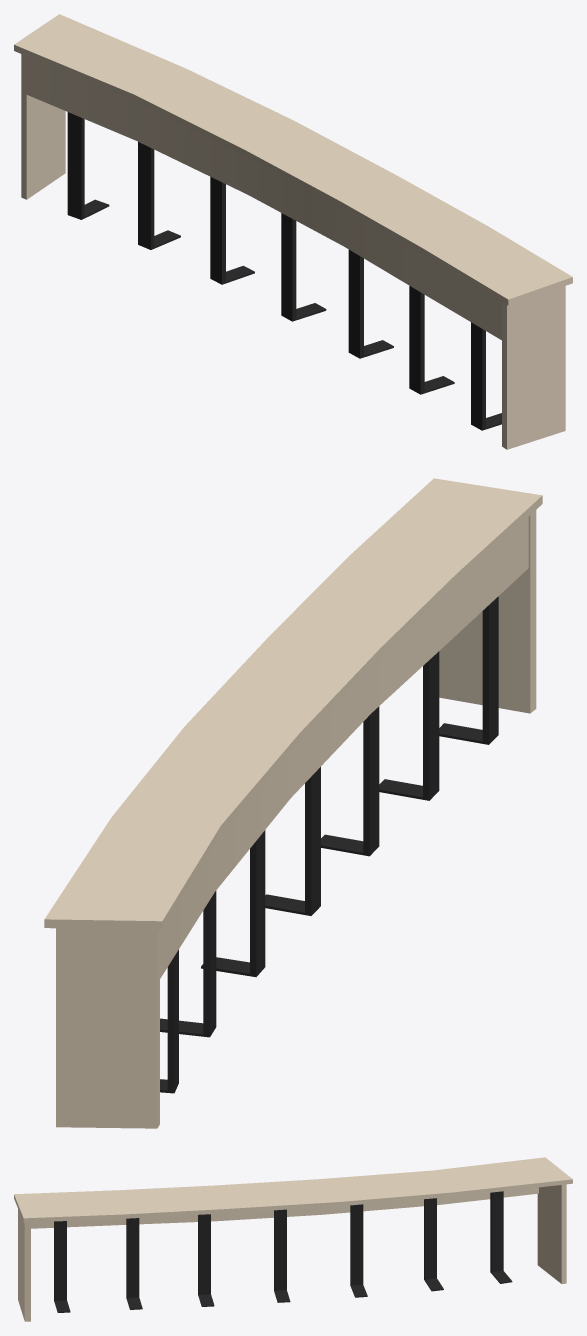
Rendered from AmphiPetitBanc7.fbx.
3 renders of one model, top to bottom at view 1: azimuth 30°, elevation 25°; view 2: azimuth 150°, elevation 25°; view 3: azimuth 270°, elevation 25°, orthographic. The views are drawn at different scales.
Parts seen in each view (by area): view 1: polySurface19, polySurface20, polySurface21, polySurface24, polySurface23, polySurface25, polySurface22, polySurface26; view 2: polySurface19, polySurface25, polySurface24, polySurface26, polySurface23, polySurface22, polySurface21, polySurface20; view 3: polySurface19, polySurface22, polySurface20, polySurface25, polySurface21, polySurface23, polySurface24, polySurface26.
Boxes of the visible parts, x1,y1,x2,y2 form: polySurface19: (14,14,572,449); polySurface20: (67,112,109,219); polySurface21: (138,142,180,249); polySurface24: (348,249,393,358); polySurface23: (281,213,326,321); polySurface25: (409,286,454,394); polySurface22: (210,177,254,284); polySurface26: (471,322,501,430); polySurface19: (44,478,542,1128); polySurface25: (379,651,439,800); polySurface24: (321,706,379,856); polySurface26: (439,596,498,744); polySurface23: (265,767,320,915); polySurface22: (201,830,265,977); polySurface21: (160,891,216,1037); polySurface20: (160,949,178,1093); polySurface19: (14,1157,572,1321); polySurface22: (350,1204,367,1297); polySurface20: (490,1191,512,1283); polySurface25: (126,1218,142,1309); polySurface21: (424,1198,443,1291); polySurface23: (274,1209,290,1302); polySurface24: (198,1214,214,1306); polySurface26: (54,1221,70,1312).
Bounding box in the file's own units: 28.13 × 22.71 × 109.
